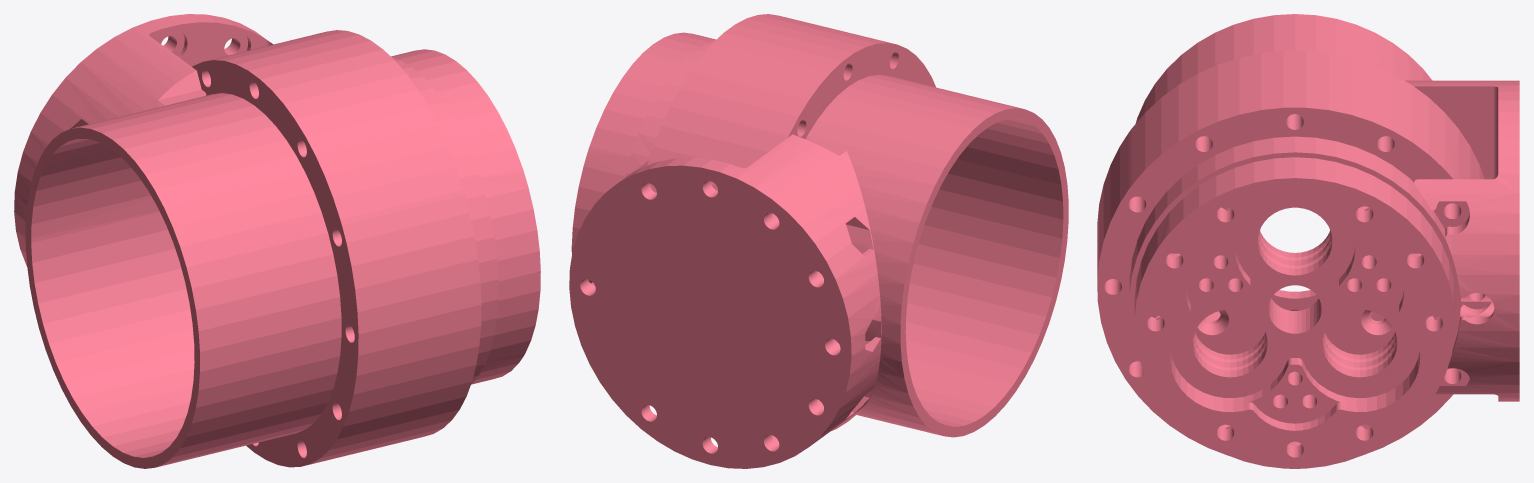
3 views of the same model, side by side, from view 1: azimuth 30°, elevation 25°; view 2: azimuth 150°, elevation 25°; view 3: azimuth 270°, elevation 25° (orthographic). The views are drawn at different scales.
Visible parts, largest first — view 1: link4; view 2: link4; view 3: link4.
Boxes of the visible parts, bbox=[...] form: link4: bbox=[14, 14, 540, 468]; link4: bbox=[569, 14, 1068, 468]; link4: bbox=[1097, 14, 1519, 468].
Bounding box in the file's own units: 0.0704 × 0.0739 × 0.079.
1 material, 1 textured.
